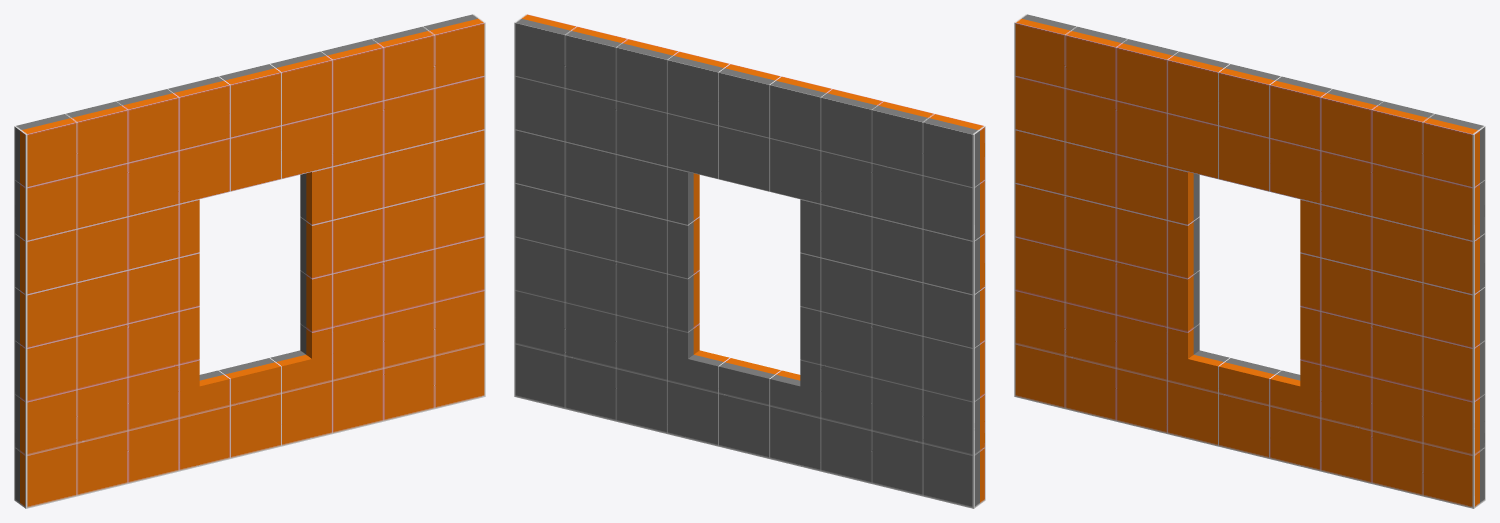
Rendered from M01WallWindowTypeA_1.FBX.
3 renders of one model, left to right at view 1: azimuth 30°, elevation 25°; view 2: azimuth 150°, elevation 25°; view 3: azimuth 330°, elevation 25°, orthographic.
Visible parts, largest first — view 1: M01WallWindowTypeA_1; view 2: M01WallWindowTypeA_1; view 3: M01WallWindowTypeA_1.
Part boxes in pixels (x1,y1,x2,y2): M01WallWindowTypeA_1: [14, 14, 485, 508]; M01WallWindowTypeA_1: [514, 14, 985, 508]; M01WallWindowTypeA_1: [1014, 14, 1485, 508].
Size of what is drawn, in the model's own units: 4.5 by 3.5 by 0.2.
